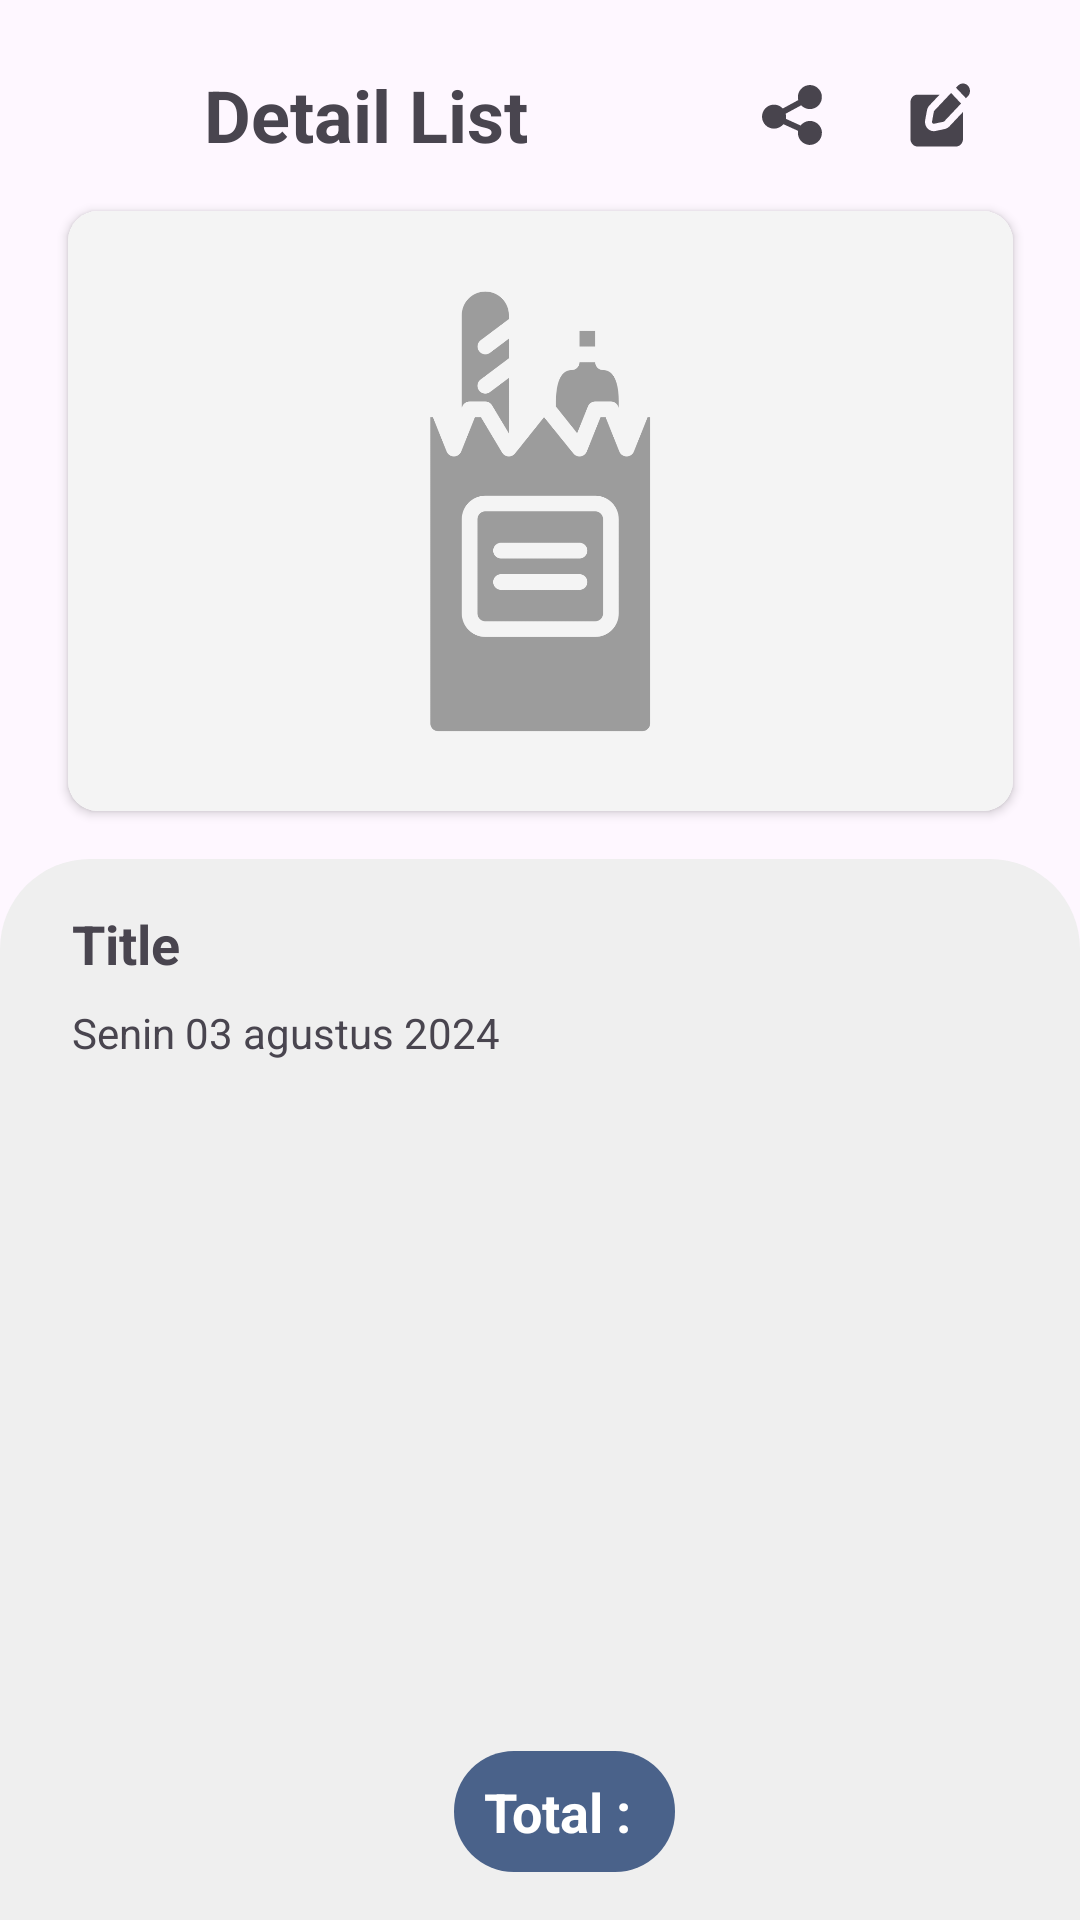

Point at icon controls on the screen. Image size 1080px x 1920px, points as [x,y].
edit: [940,115]
share: [792,115]
